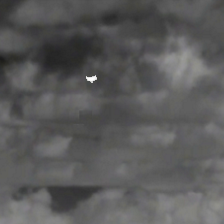Target: (86, 73, 98, 83)
